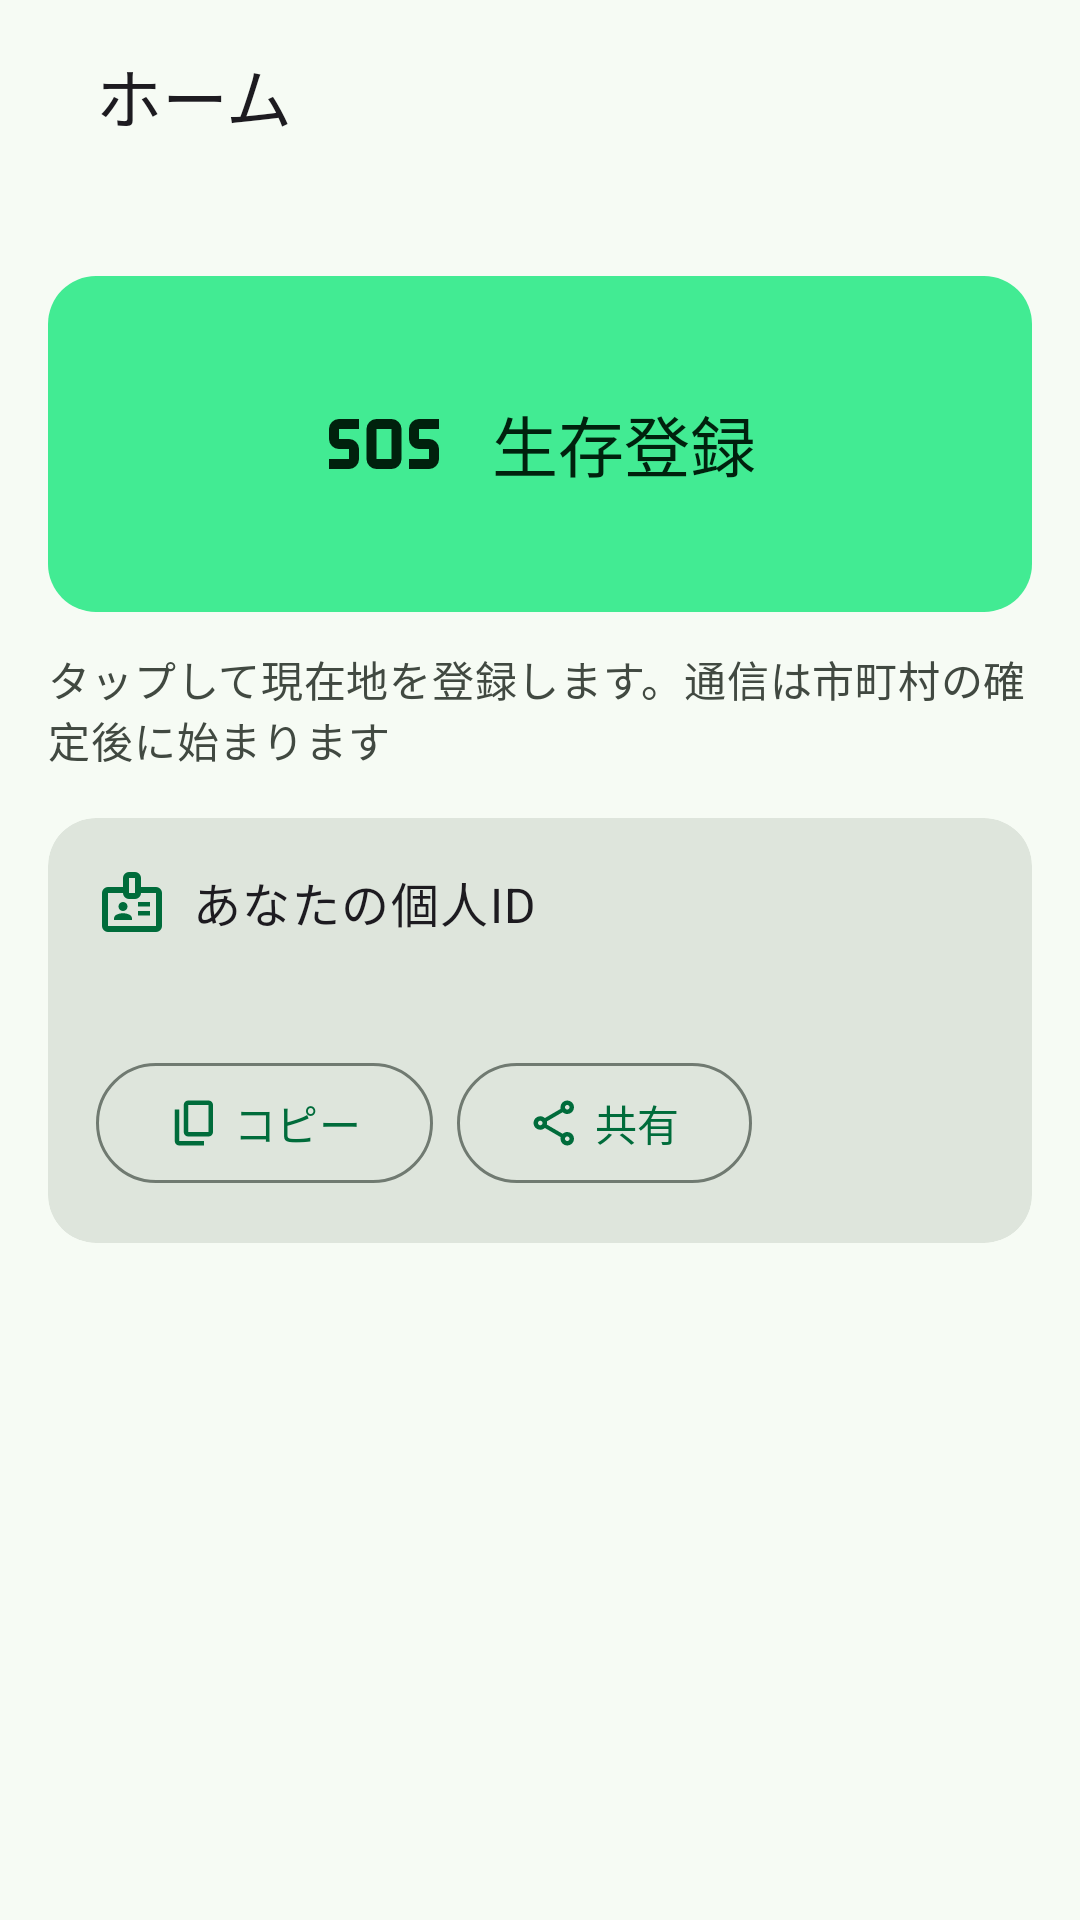

Icons on this 1080 x 1920 Android screen, each with the point to tap as [x,y]:
badge: [132,902]
